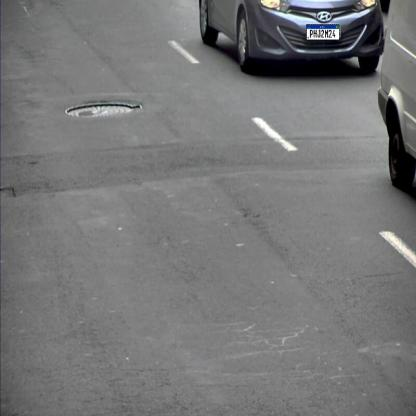PlacaM: (306, 24, 340, 40)
